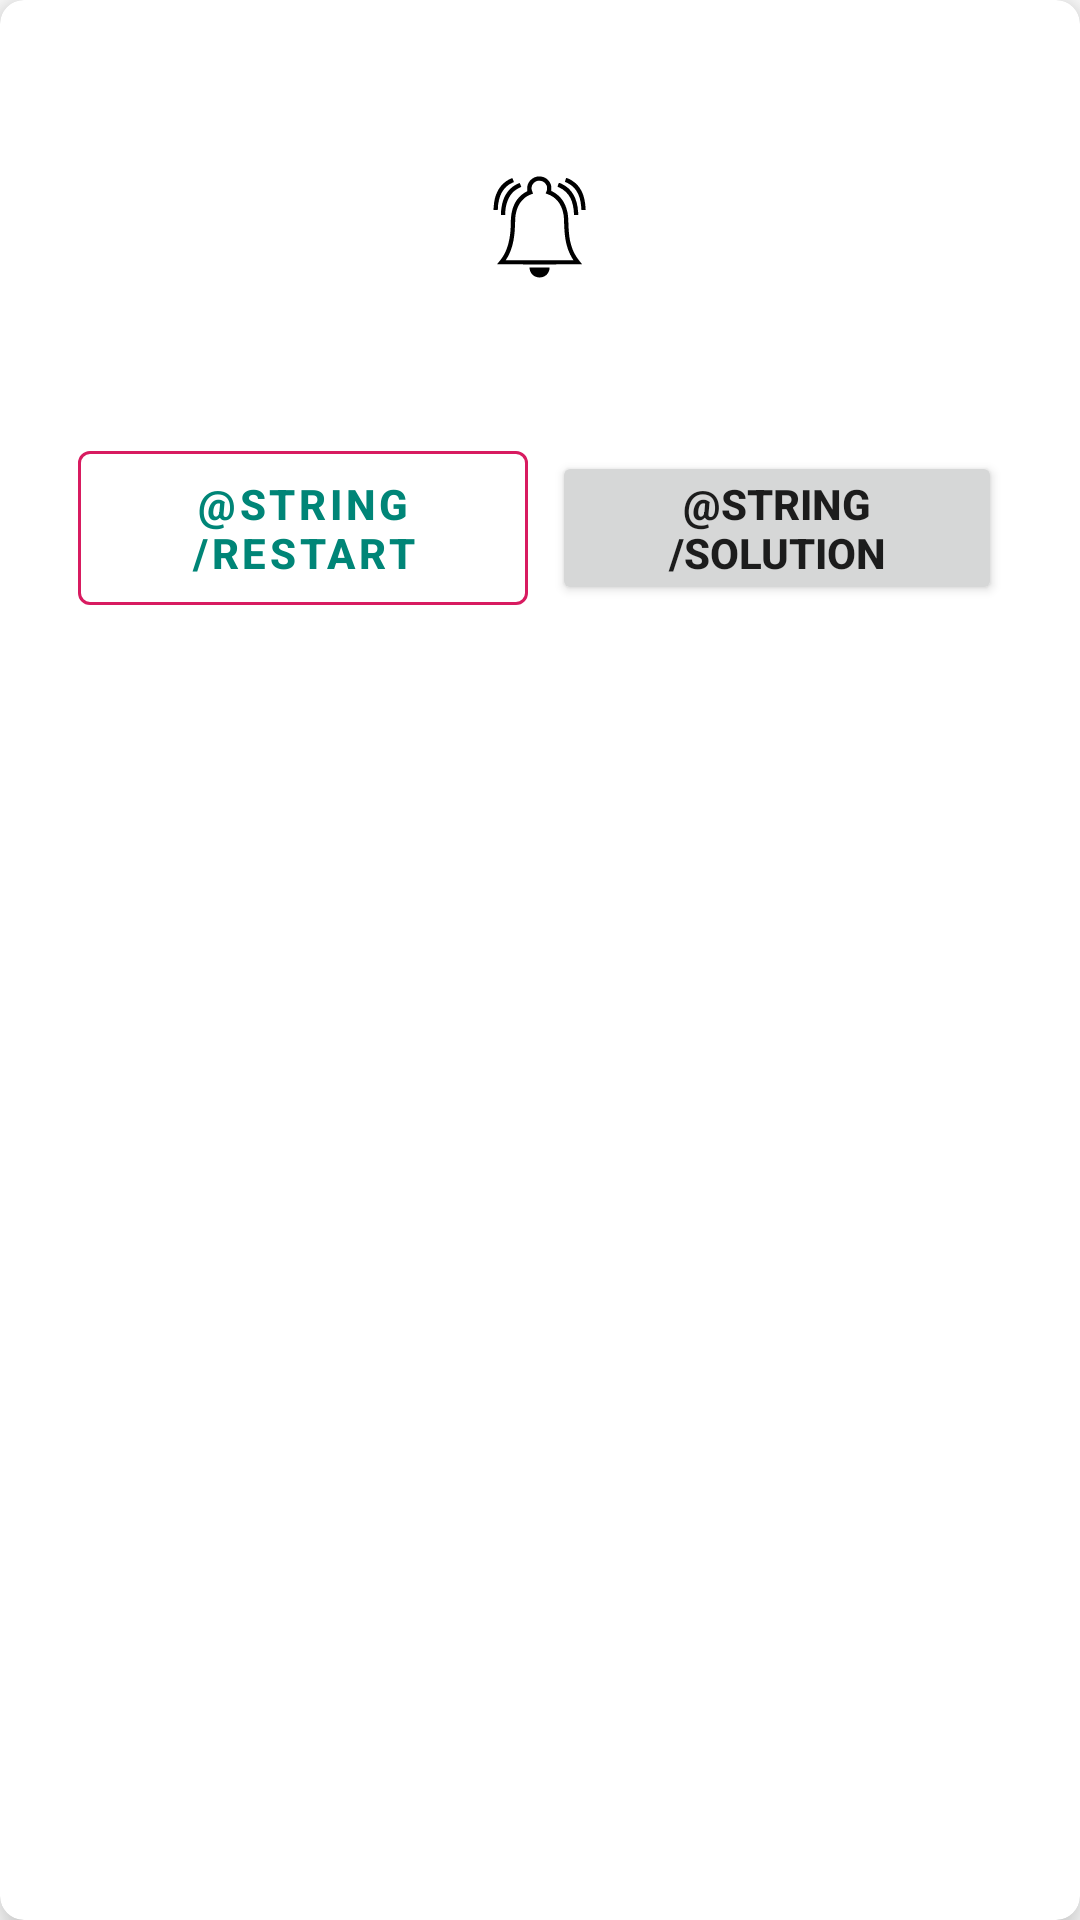

Icon bounding boxes for this 1080w x 1920h phone screenshot, format (left=x1, top=y1, right=x2, bottom=y2):
alert bell: (left=493, top=176, right=586, bottom=278)
